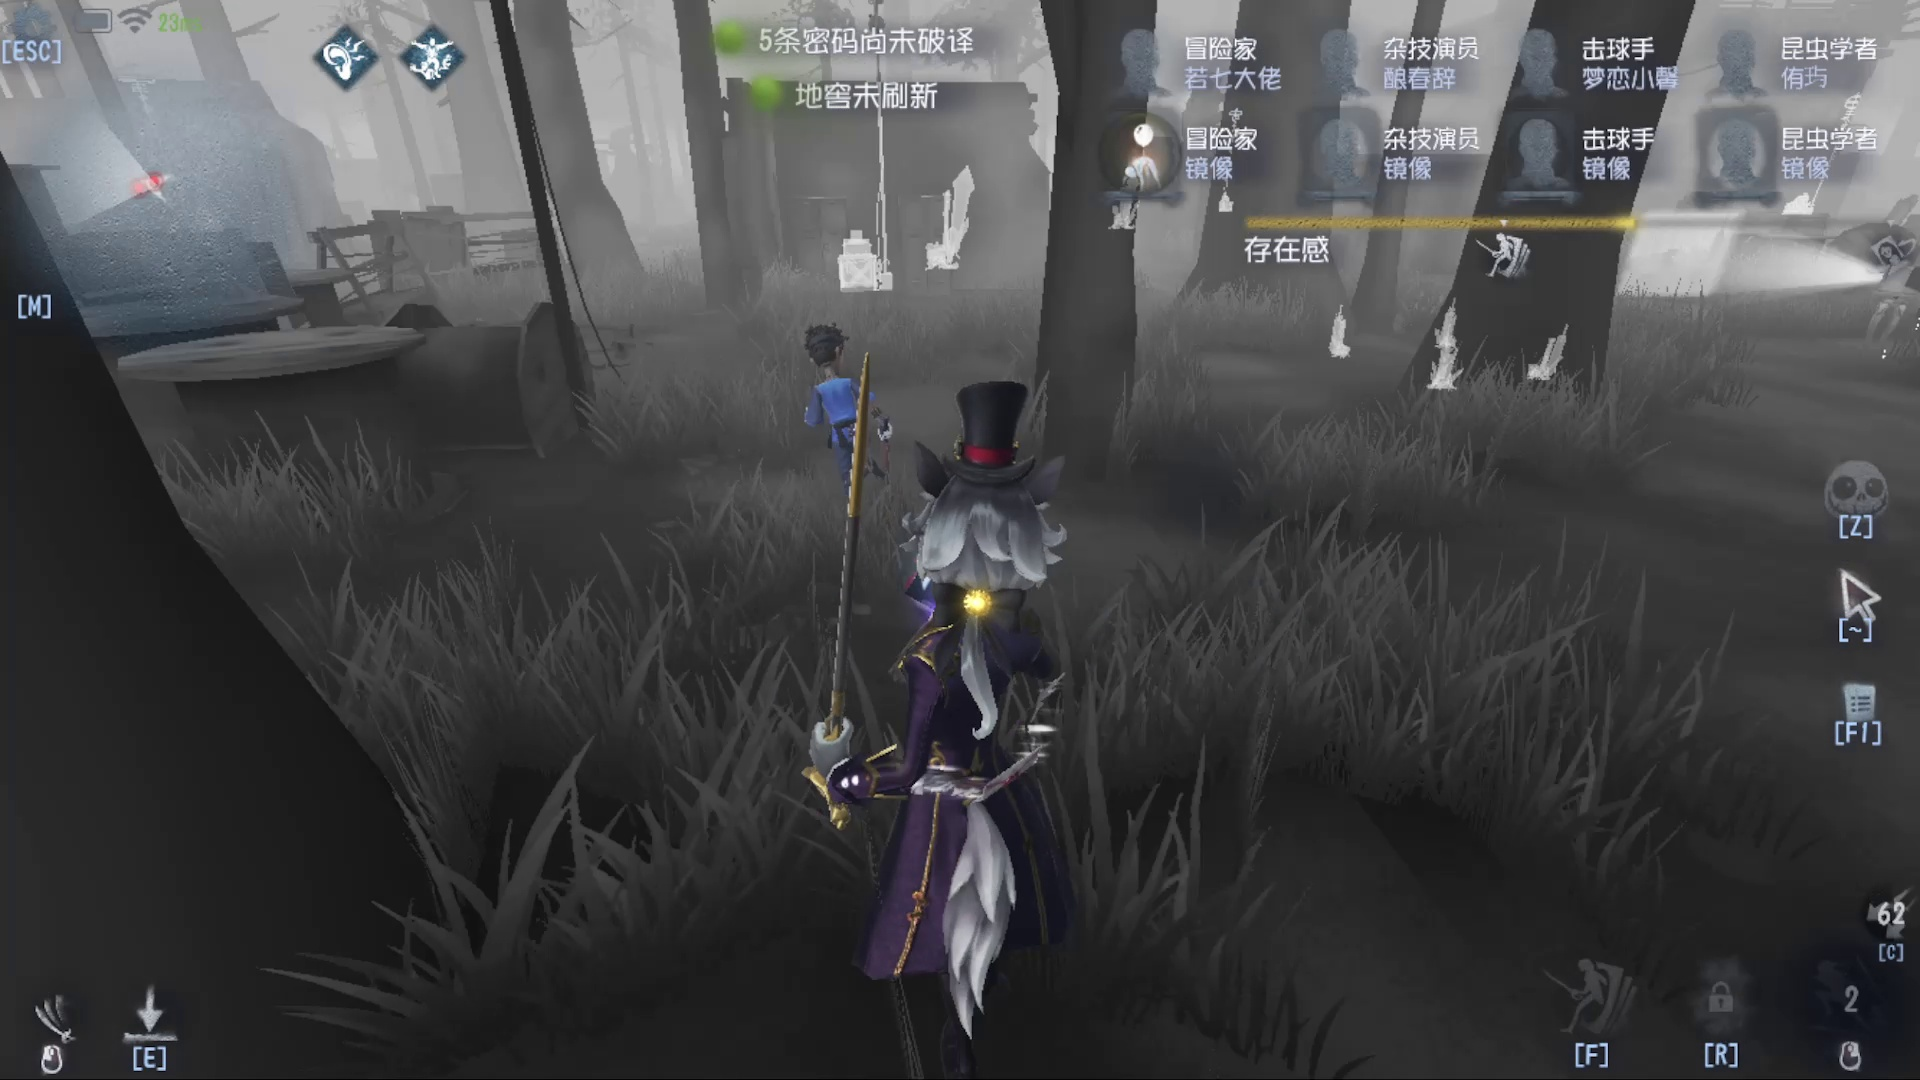密码机: (815, 16, 928, 311)
狂欢之椅: (1420, 303, 1469, 407), (1320, 293, 1373, 389), (949, 148, 981, 291)
